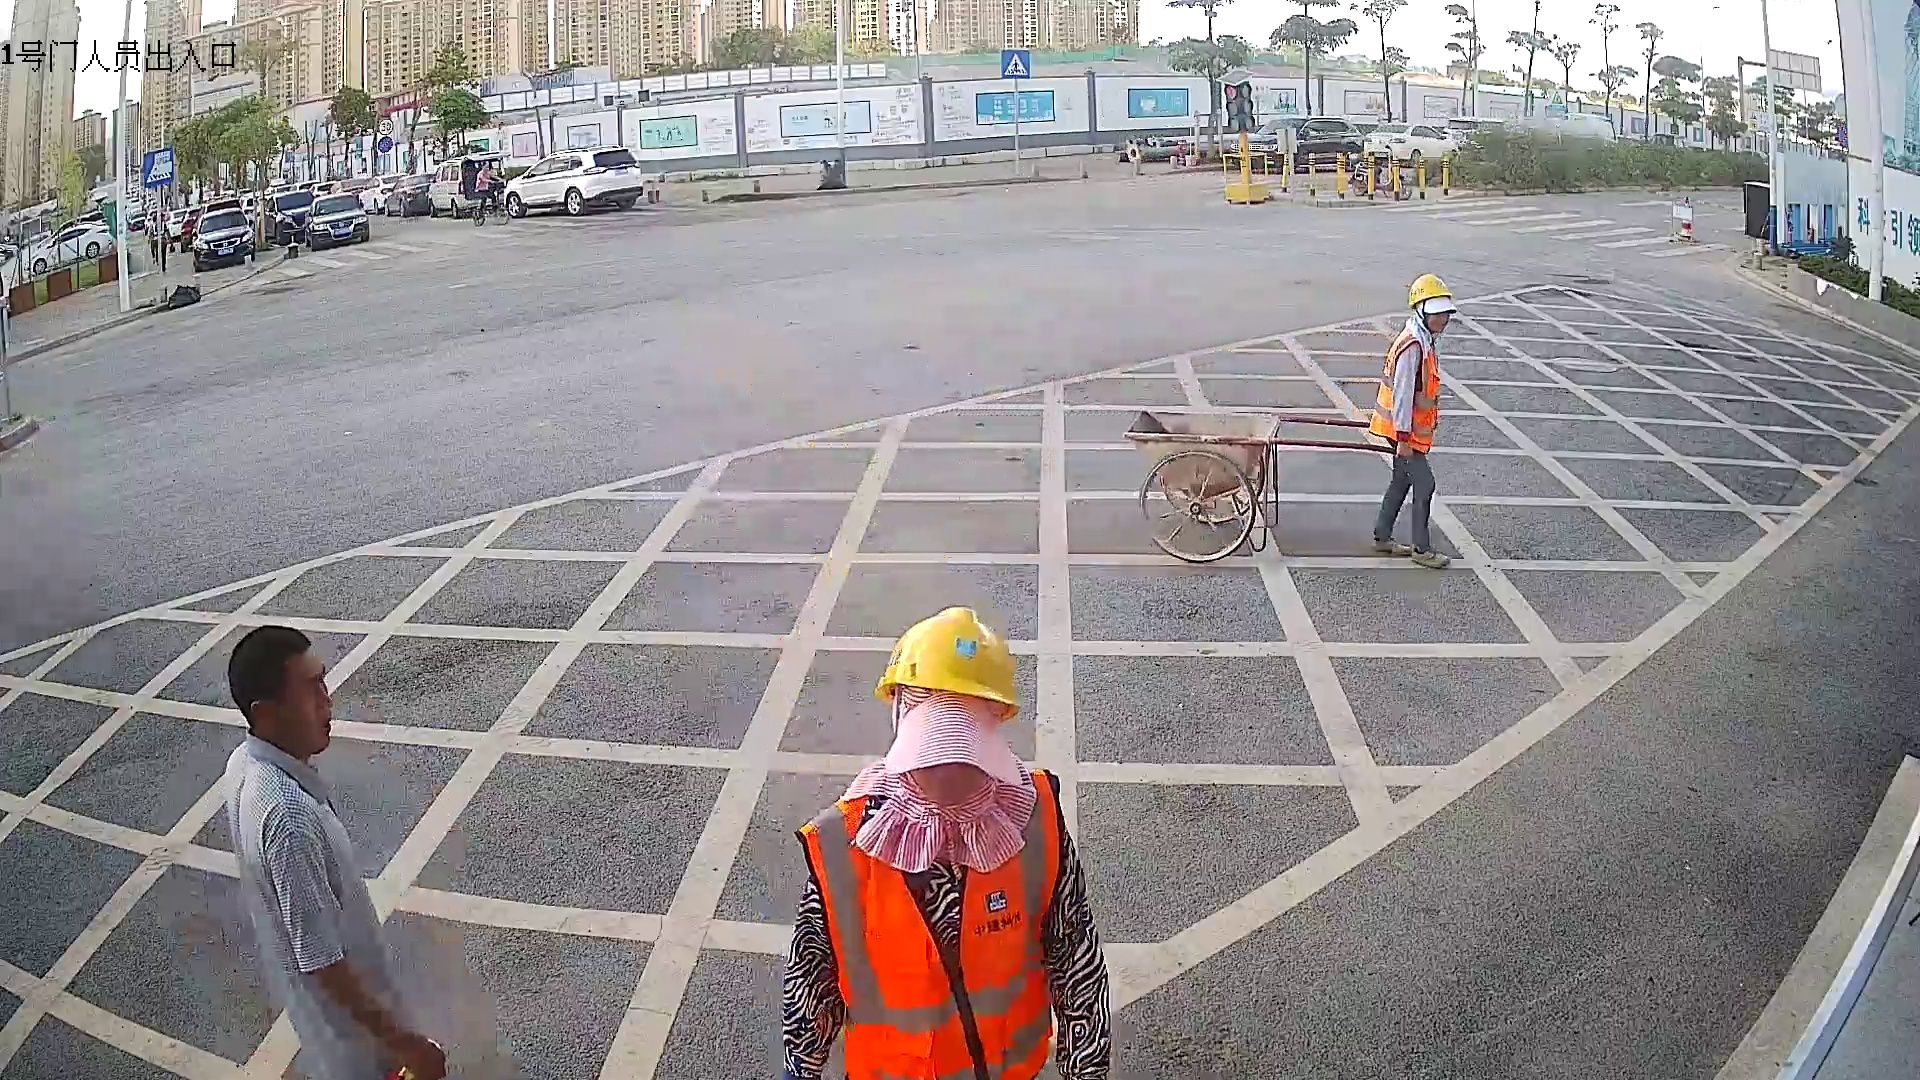head: (226, 620, 337, 760)
ordinary_clothes: (223, 733, 415, 1080)
person: (777, 595, 1116, 1080), (217, 616, 455, 1080), (1362, 267, 1457, 570)
reflective_vest: (790, 767, 1066, 1080), (1363, 319, 1443, 456)
safety_helmet: (872, 602, 1027, 798), (1406, 269, 1457, 335)
